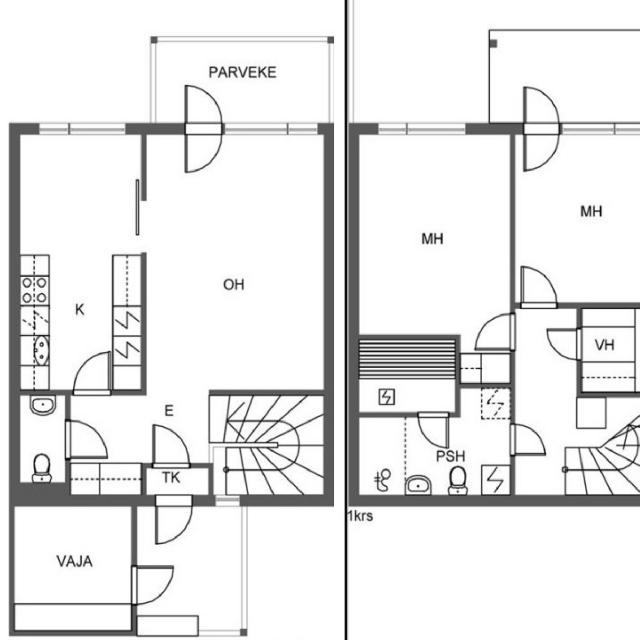door: (185, 85, 222, 135), (185, 123, 222, 172), (156, 494, 192, 544), (153, 423, 190, 469), (524, 87, 559, 134), (524, 123, 559, 170), (66, 420, 108, 459), (74, 351, 111, 395), (131, 565, 173, 603), (522, 265, 557, 309), (476, 314, 515, 350), (419, 412, 449, 449), (547, 329, 582, 360), (510, 424, 544, 454)
